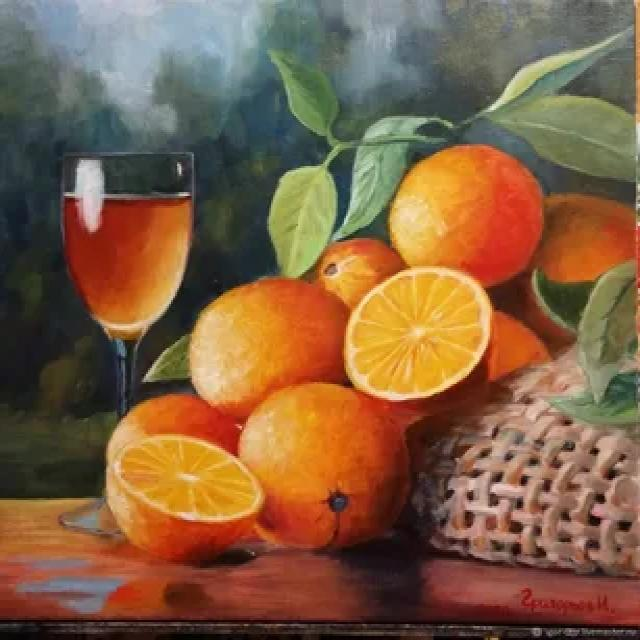orange: (239, 378, 415, 558), (381, 138, 555, 291)
